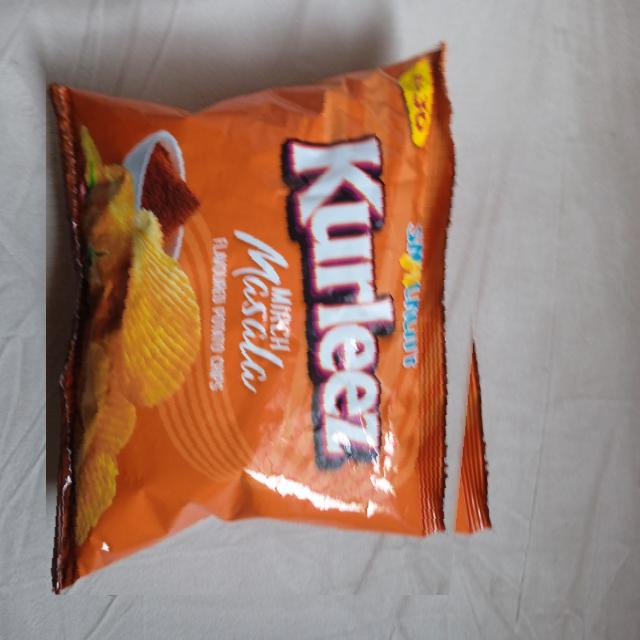Plastic: (46, 43, 502, 595)
